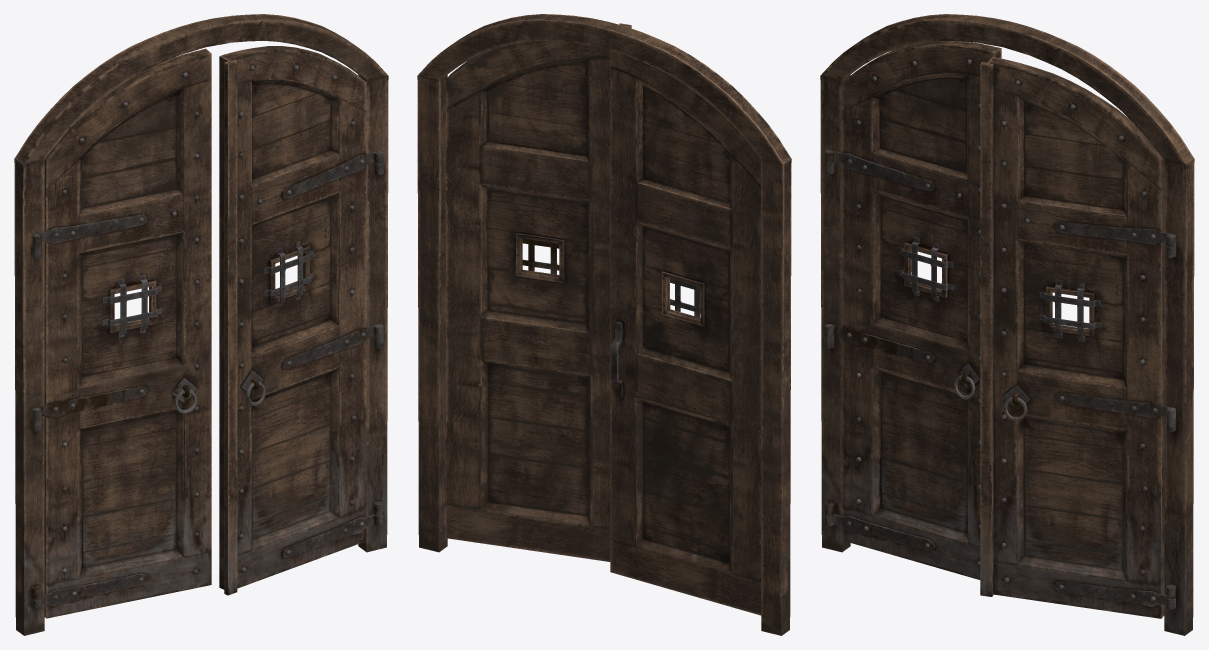
File: large_castle_door.glb
The picture shows the model from 3 angles, left to right: view 1: azimuth 30°, elevation 25°; view 2: azimuth 150°, elevation 25°; view 3: azimuth 330°, elevation 25°; orthographic projection.
Parts seen in each view (by area): view 1: large_castle_door_left, large_castle_door_right, large_castle_door_frame; view 2: large_castle_door_right, large_castle_door_left, large_castle_door_frame; view 3: large_castle_door_right, large_castle_door_left, large_castle_door_frame.
Part boxes in pixels (box(x1,y1,x2,y2)): large_castle_door_left: box(32, 48, 211, 618); large_castle_door_right: box(219, 46, 383, 595); large_castle_door_frame: box(14, 14, 388, 635); large_castle_door_right: box(446, 23, 631, 561); large_castle_door_left: box(610, 50, 761, 615); large_castle_door_frame: box(417, 14, 791, 635); large_castle_door_right: box(980, 57, 1175, 618); large_castle_door_left: box(824, 41, 1001, 579); large_castle_door_frame: box(820, 14, 1194, 635).
Size of the model in its own units: 4 by 5.89 by 0.589.
1 material, 1 textured.
